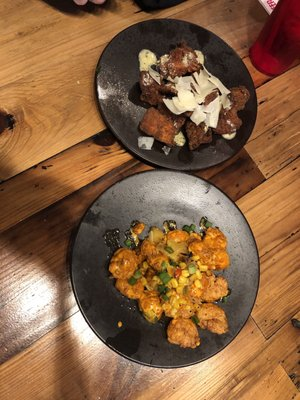pizza: (248, 0, 300, 77)
sushi: (68, 168, 261, 370), (94, 11, 259, 175)
